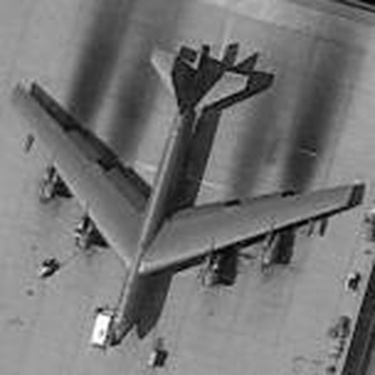airplane: (7, 20, 362, 358)
